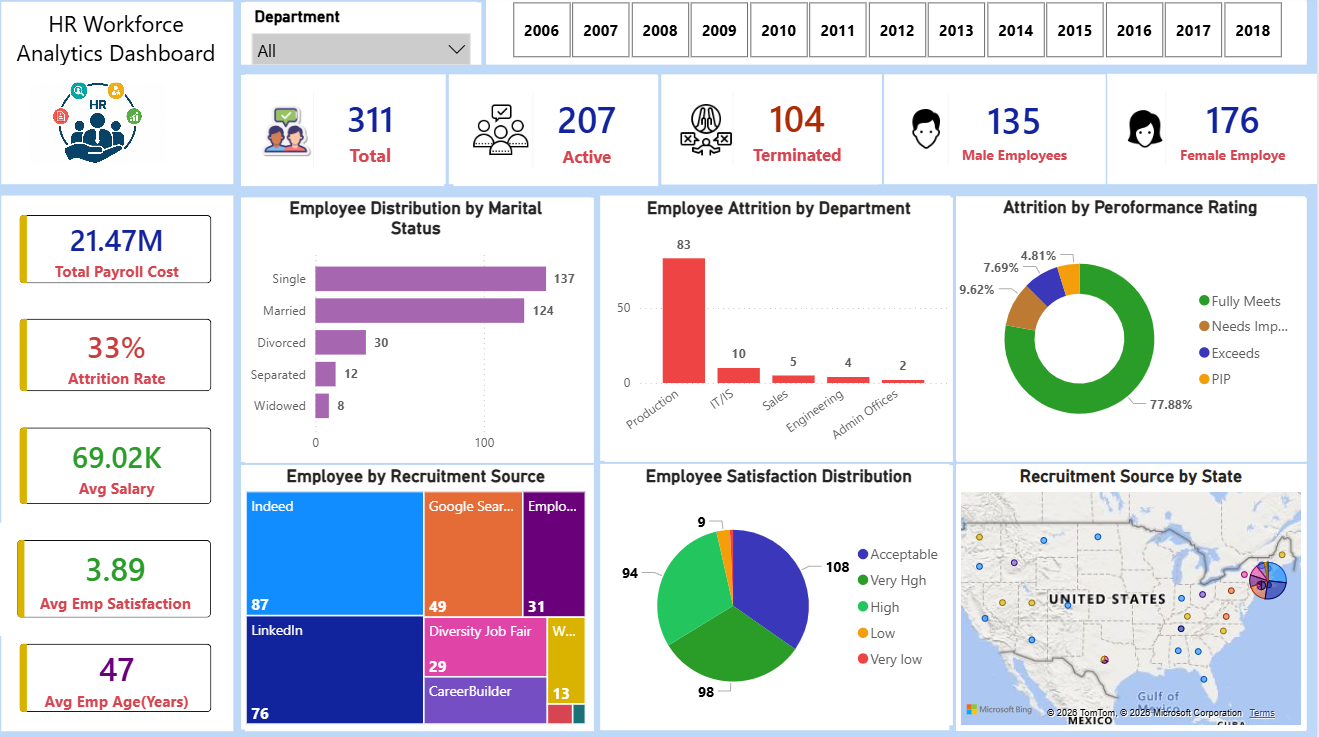

The dashboard page shown, as its layout file describes it:
{"tool":"powerbi","page":{"name":"Page 1","canvas":[1280,720],"ordinal":0},"visuals":[{"type":"cardVisual","fields":{"Data":["Measure Table.HeadCount"]},"box":[241.5,76.8,196.2,107],"z":0},{"type":"cardVisual","fields":{"Data":["Measure Table.Active"]},"box":[446,76.8,197.6,107],"z":1000},{"type":"cardVisual","fields":{"Data":["Measure Table.Terminated"]},"box":[647.7,76.8,208.6,105.7],"z":2000},{"type":"cardVisual","fields":{"Data":["Measure Table.Male"]},"box":[865,77.2,203.9,105],"z":3000},{"type":"cardVisual","fields":{"Data":["Measure Table.Active Employees"]},"box":[1077.4,76,202.7,106.2],"z":4000},{"type":"clusteredBarChart","title":"Employee Distribution by Marital Status","fields":{"Category":["HRData.MaritalStatus"],"Y":["Measure Table.HeadCount"]},"box":[241.5,194.9,337.6,255.2],"z":5000},{"type":"clusteredColumnChart","title":"Employee Attrition by Department","fields":{"Category":["HRData.Department"],"Y":["Measure Table.Terminated"]},"box":[592.8,194.9,336.2,255.2],"z":6000},{"type":"donutChart","title":"Attrition by Peroformance Rating","fields":{"Category":["HRData.PerformanceScore"],"Y":["Measure Table.Terminated"]},"box":[931.4,194.2,336.6,254.6],"z":7000},{"type":"treemap","title":"Employee by Recruitment Source","fields":{"Group":["HRData.RecruitmentSource"],"Values":["Measure Table.HeadCount"]},"box":[241.5,454.2,337.6,255.2],"z":8000},{"type":"pieChart","title":"Employee Satisfaction Distribution","fields":{"Category":["HRData.Employee satisfaction"],"Y":["Measure Table.HeadCount"]},"box":[592.8,454.2,336.2,251.1],"z":9000},{"type":"map","title":"Recruitment Source by State","fields":{"Series":["HRData.RecruitmentSource"],"Size":["Measure Table.HeadCount"],"Category":["HRData.State"]},"box":[931.4,453.6,337.8,255.8],"z":10000},{"type":"slicer","fields":{"Values":["HRData.Department"]},"box":[241.5,6.9,231.9,60.4],"z":11000},{"type":"slicer","fields":{"Values":["HRData.Hiring Year"]},"box":[477.5,0,791.8,67.2],"z":12000},{"type":"textbox","box":[10.9,7.2,219.6,71.2],"z":13000},{"type":"cardVisual","fields":{"Data":["Measure Table.Avg Employee Age"]},"box":[10.9,609.3,219.6,100.1],"z":14000},{"type":"cardVisual","fields":{"Data":["Measure Table.Average Emp Satisfaction"]},"box":[8.4,509.1,222,109.8],"z":15000},{"type":"cardVisual","fields":{"Data":["Measure Table.Average Salary"]},"box":[10.9,400.5,219.6,108.6],"z":16000},{"type":"cardVisual","fields":{"Data":["Measure Table.Attrition Rate"]},"box":[10.9,295.6,219.6,105],"z":17000},{"type":"cardVisual","fields":{"Data":["Sum(HRData.Salary)"]},"box":[10.9,195.4,219.6,100.1],"z":18000},{"type":"cardVisual","fields":{"Data":["Measure Table.Attrition Rate"]},"box":[20.5,67.6,166.5,114.6],"z":18001}]}

Visuals, with their boxes in screenshot pixels (x1, y1, x2, y2), scaled from the page's 1280x720 canvas onto the 1319x737 screenshot:
cardVisual - Measure Table.HeadCount: (249,79,451,188)
cardVisual - Measure Table.Active: (460,79,663,188)
cardVisual - Measure Table.Terminated: (667,79,882,187)
cardVisual - Measure Table.Male: (891,79,1101,187)
cardVisual - Measure Table.Active Employees: (1110,78,1318,187)
"Employee Distribution by Marital Status" clusteredBarChart: (249,200,597,461)
"Employee Attrition by Department" clusteredColumnChart: (611,200,957,461)
"Attrition by Peroformance Rating" donutChart: (960,199,1307,459)
"Employee by Recruitment Source" treemap: (249,465,597,726)
"Employee Satisfaction Distribution" pieChart: (611,465,957,722)
"Recruitment Source by State" map: (960,464,1308,726)
slicer - HRData.Department: (249,7,488,69)
slicer - HRData.Hiring Year: (492,0,1308,69)
textbox: (11,7,238,80)
cardVisual - Measure Table.Avg Employee Age: (11,624,238,726)
cardVisual - Measure Table.Average Emp Satisfaction: (9,521,237,634)
cardVisual - Measure Table.Average Salary: (11,410,238,521)
cardVisual - Measure Table.Attrition Rate: (11,303,238,410)
cardVisual - Sum(HRData.Salary): (11,200,238,302)
cardVisual - Measure Table.Attrition Rate: (21,69,193,187)
